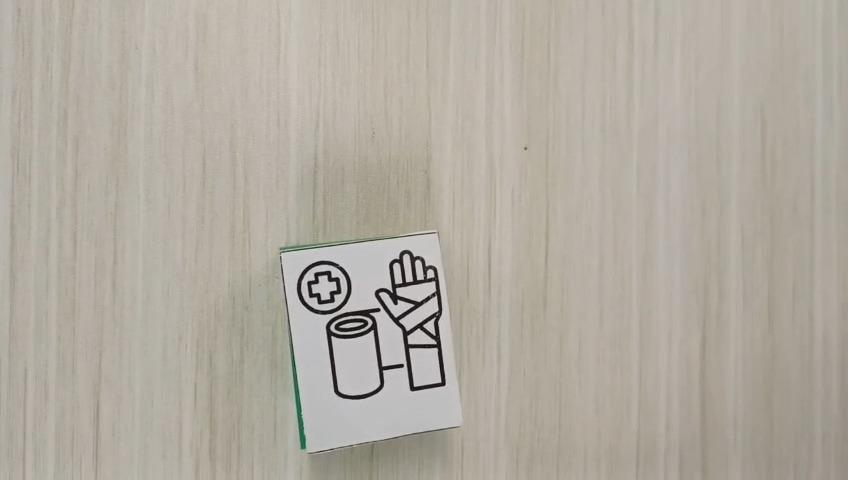Bandages: (278, 229, 462, 453)
